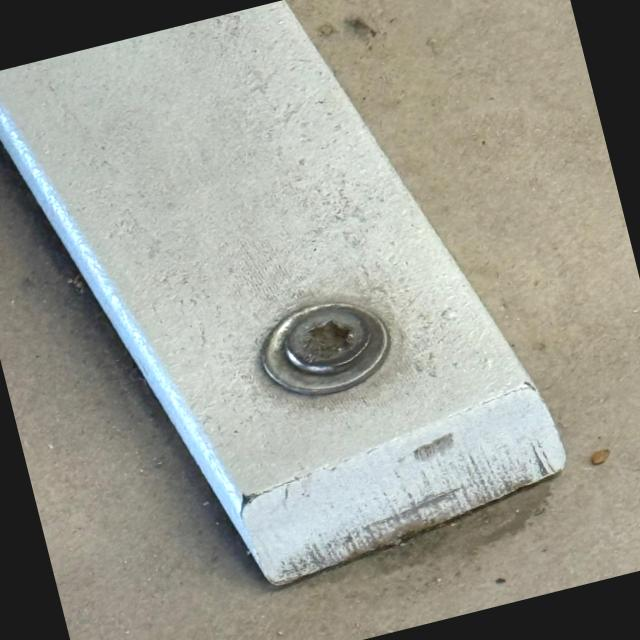Torx: (272, 290, 391, 382)
